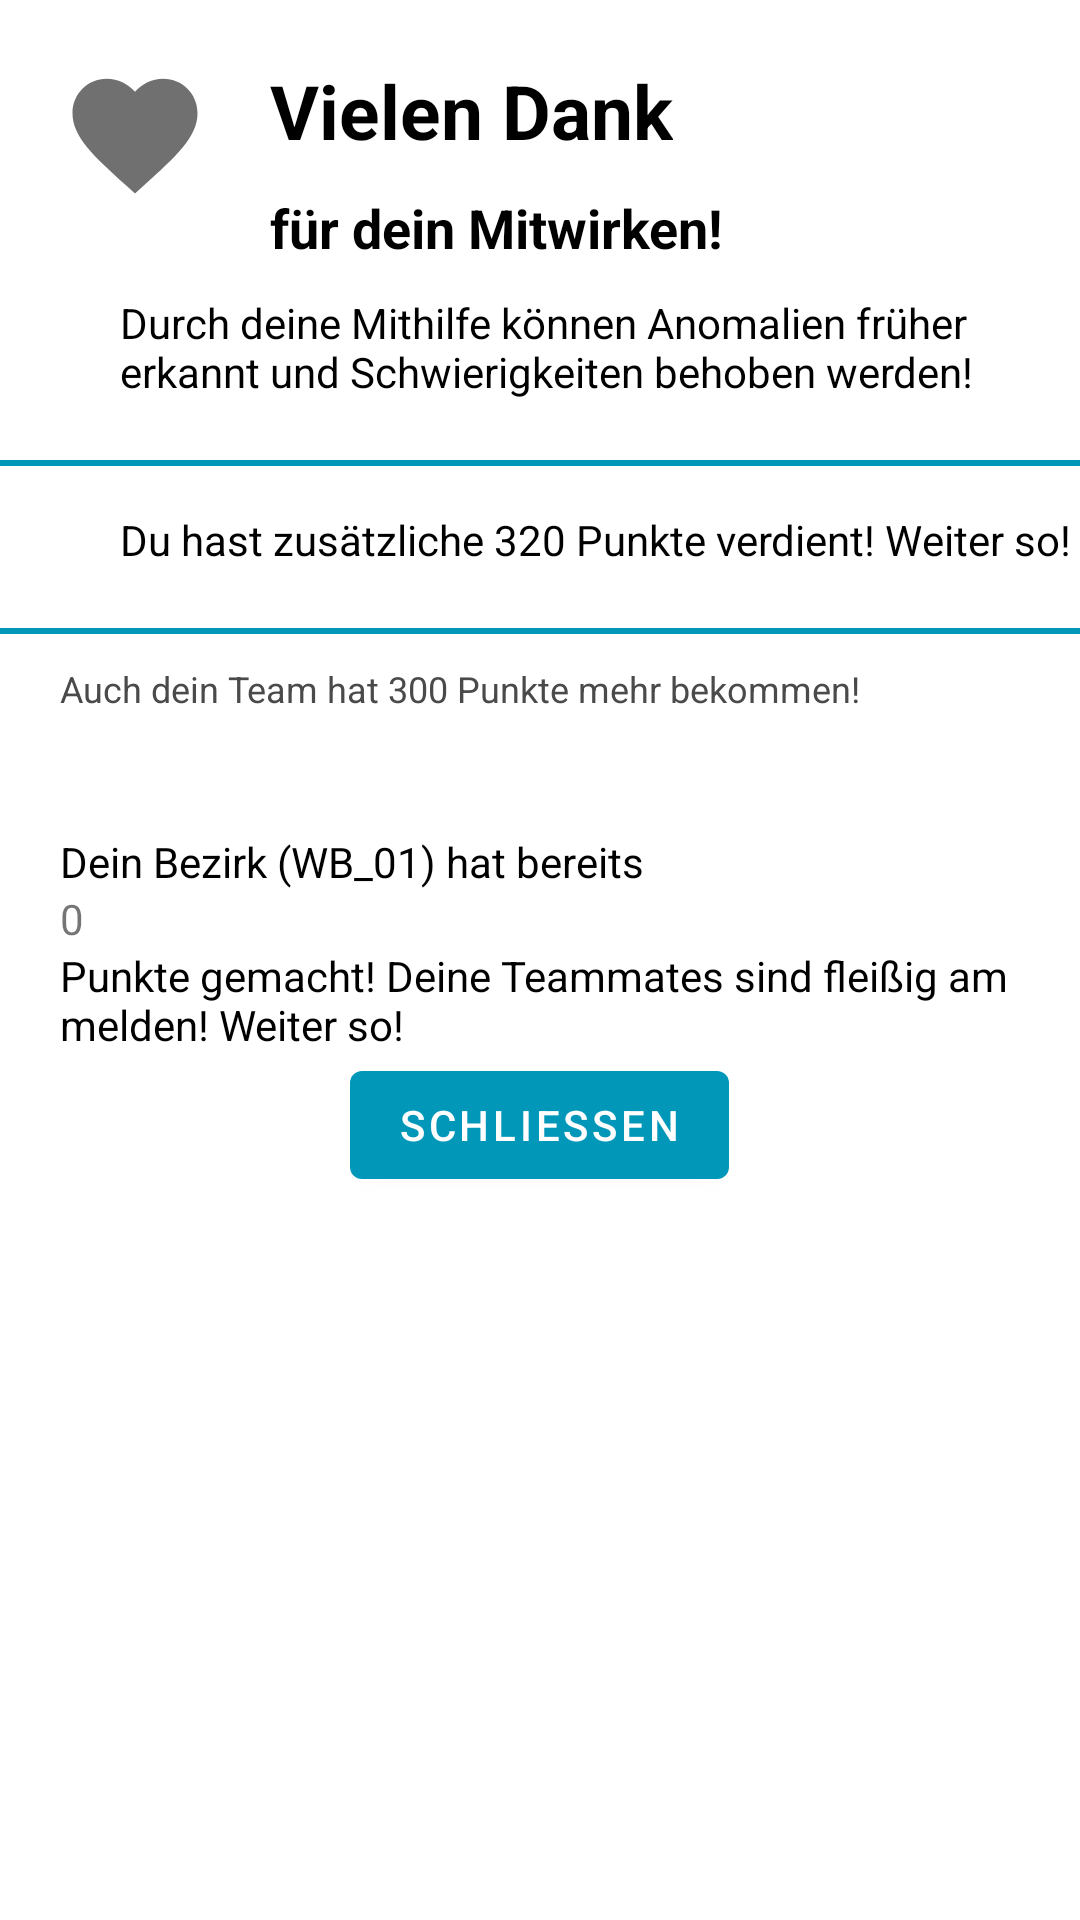

Screen size 1080px×1920px. Icon name, then its center in pixels as (x,y):
favorite: (135,135)
